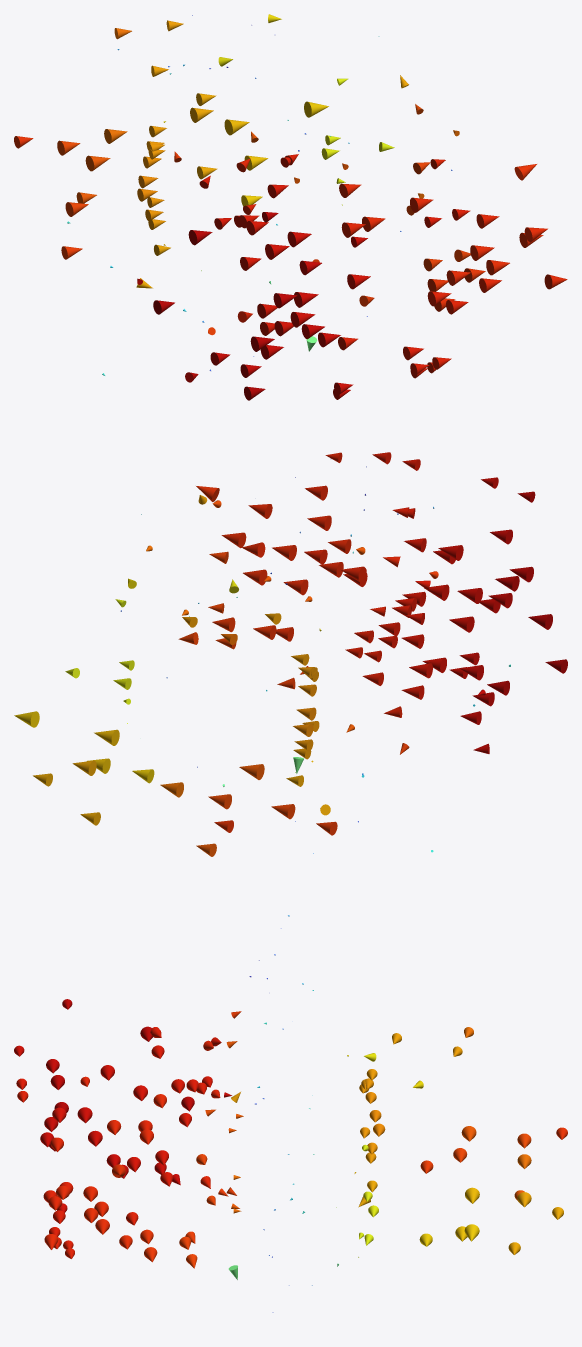
Rendered from LineasCorrienteH2-O2_mh2-8.20_V-0.7.glb.
3 renders of one model, top to bottom at view 1: azimuth 30°, elevation 25°; view 2: azimuth 150°, elevation 25°; view 3: azimuth 270°, elevation 25°, orthographic. The views are drawn at different scales.
Size of the model in its own units: 0.000917 by 0.000948 by 0.00124.
2 materials, 2 textured.
